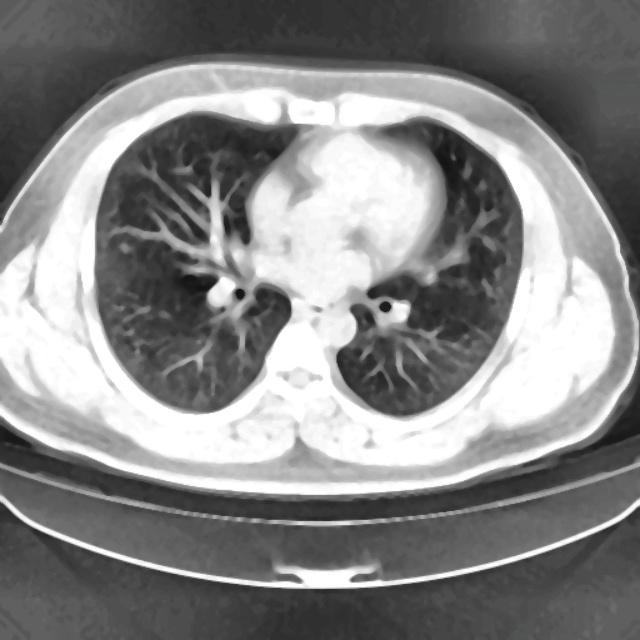covid: (1, 53, 638, 500)
